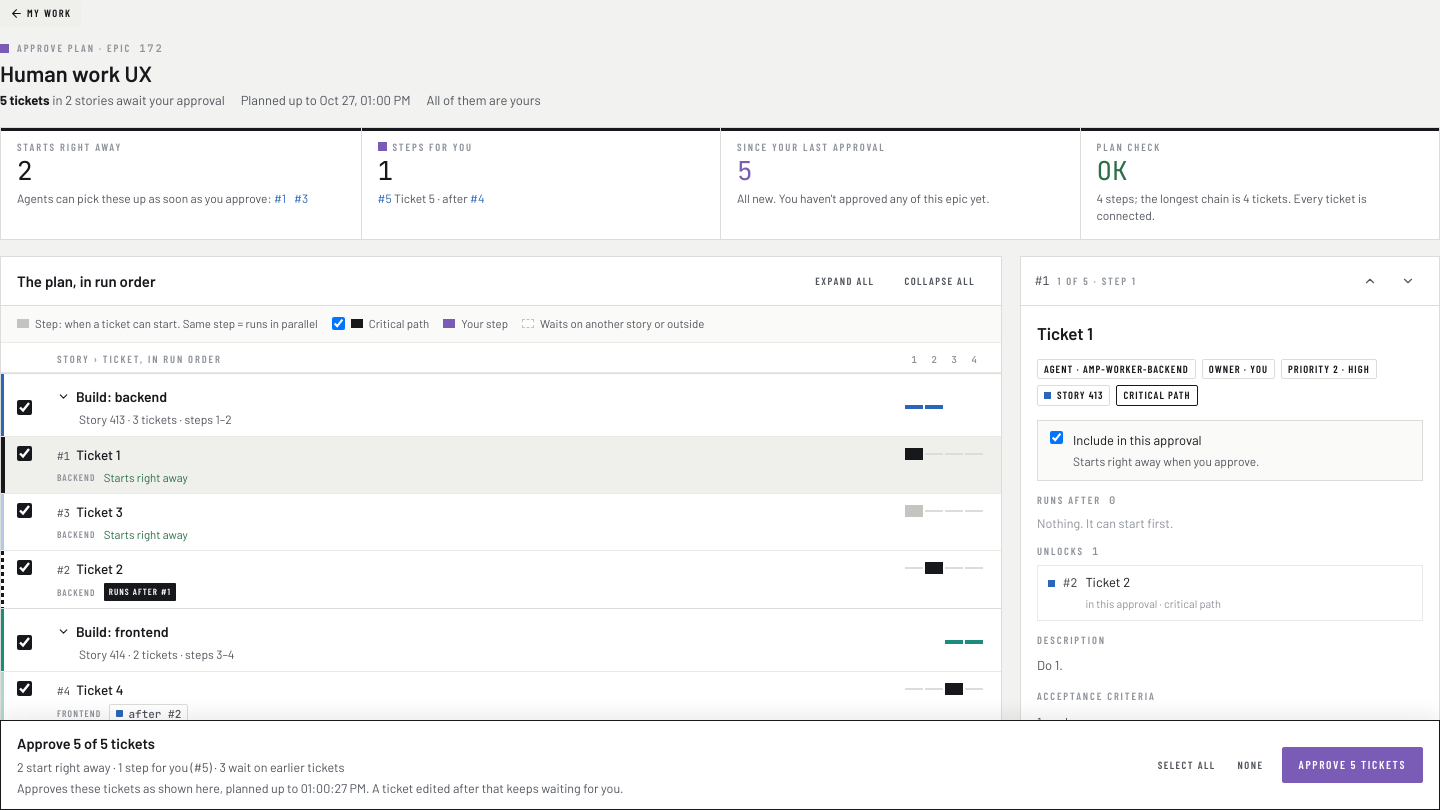
Test: ApproveView › approves the ticked tickets with as_of verbatim and reports what starts
Click the button "Approve 5 tickets".
click(1352, 765)  # box [1282,747,1423,783]
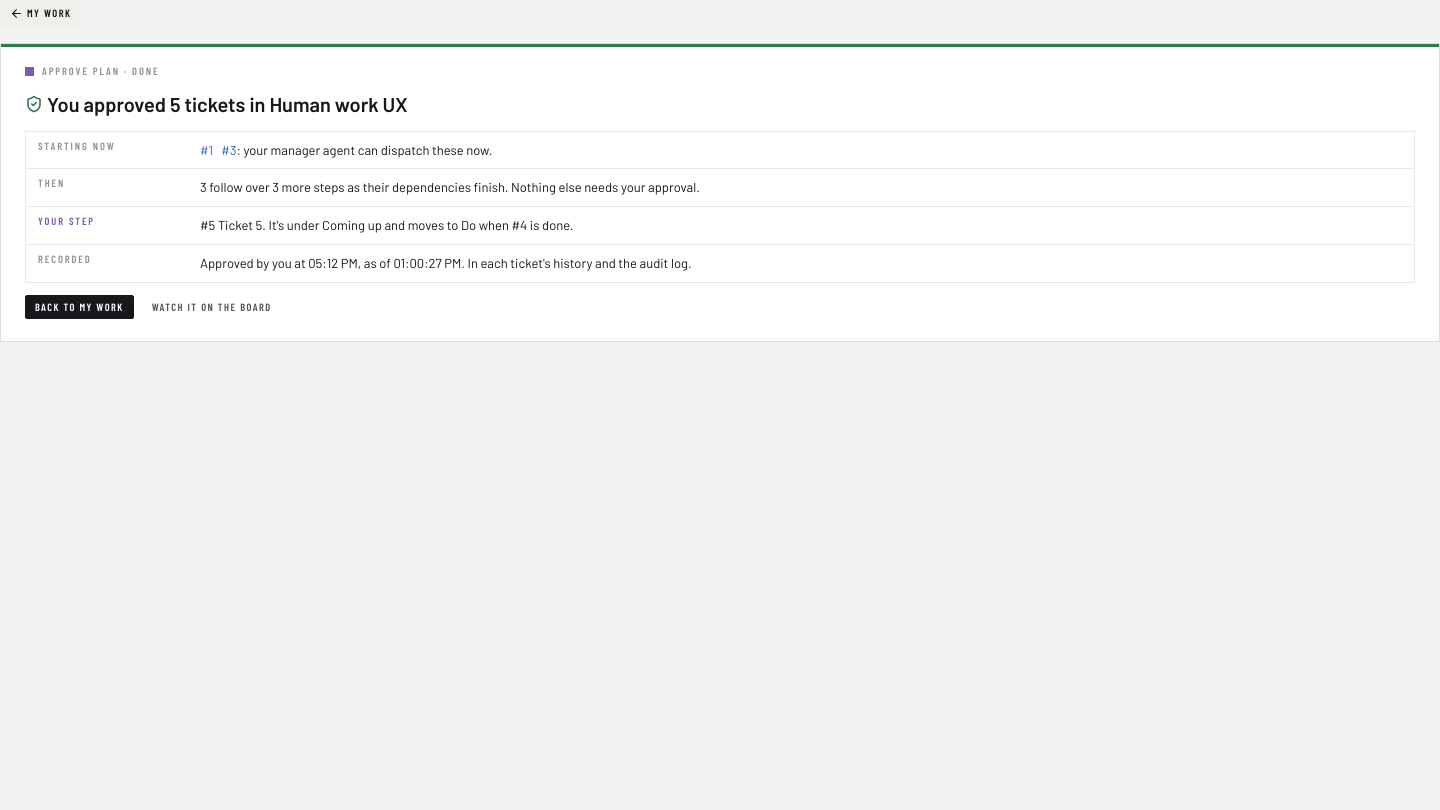
Now the heading "You approved 5 tickets in Human work UX" is shown, box [25,92,408,116]
Now the text "3 follow over 3 more steps" is shown, box [200,179,700,195]
Now the text "#5 Ticket 5. It's under Coming up and moves to Do when #4 is done." is shown, box [200,217,573,233]
